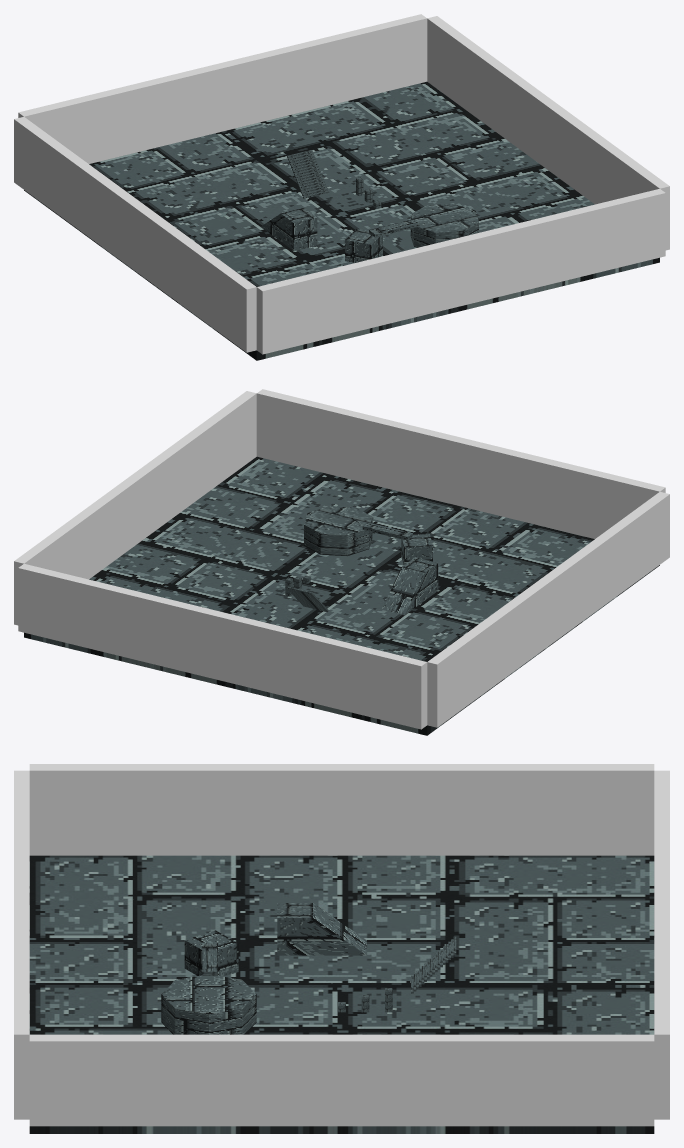
3 views of the same model, one above another, from view 1: azimuth 30°, elevation 25°; view 2: azimuth 150°, elevation 25°; view 3: azimuth 270°, elevation 25° (orthographic). The views are drawn at different scales.
Visible parts, largest first — view 1: Plane, Cube.015, Cube.014, Cube.013, Cube.012, Cylinder, Cube.011, Cube.007; view 2: Plane, Cube.014, Cube.015, Cube.013, Cube.012, Cylinder, Cube.011, Cube.007; view 3: Plane, Cube.012, Cube.013, Cube.014, Cube.015, Cylinder, Cube.011, Cube.007.
Boxes of the visible parts, x1,y1,x2,y2 form: Plane: [24, 81, 659, 360]; Cube.015: [256, 188, 665, 354]; Cube.014: [18, 14, 427, 163]; Cube.013: [14, 117, 256, 352]; Cube.012: [427, 16, 669, 250]; Cylinder: [410, 203, 478, 247]; Cube.011: [261, 208, 317, 250]; Cube.007: [345, 229, 382, 262]; Plane: [24, 456, 659, 735]; Cube.014: [18, 563, 427, 729]; Cube.015: [256, 389, 665, 538]; Cube.013: [427, 492, 669, 727]; Cube.012: [14, 391, 256, 625]; Cylinder: [304, 506, 372, 556]; Cube.011: [382, 557, 438, 615]; Cube.007: [401, 534, 432, 564]; Plane: [29, 855, 654, 1133]; Cube.012: [29, 1034, 654, 1126]; Cube.013: [29, 764, 654, 855]; Cube.014: [654, 770, 669, 1119]; Cube.015: [14, 770, 29, 1119]; Cylinder: [161, 975, 256, 1034]; Cube.011: [277, 903, 366, 955]; Cube.007: [184, 930, 238, 976].
Bounding box in the file's own units: 84 × 14 × 84.
Materials: 1 (1 with a texture image).
